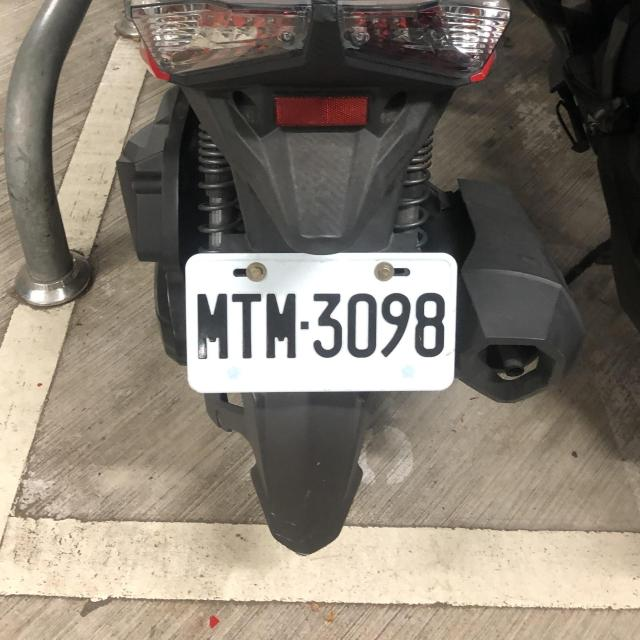W: (183, 248, 458, 394)
